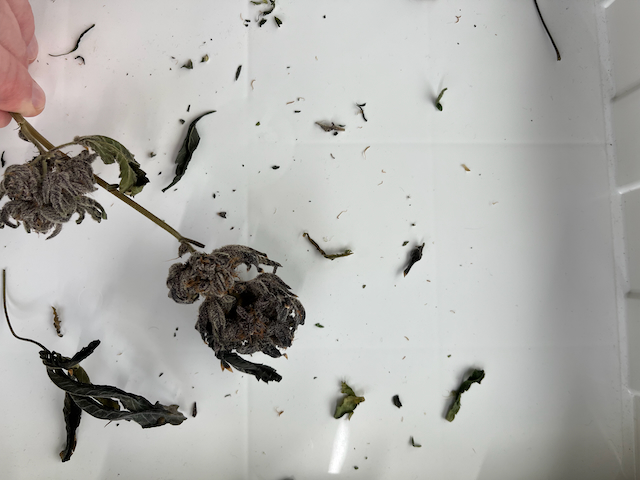Bud: (204, 275, 297, 363), (6, 152, 100, 234), (178, 249, 237, 301)
Stem: (103, 175, 190, 245)
